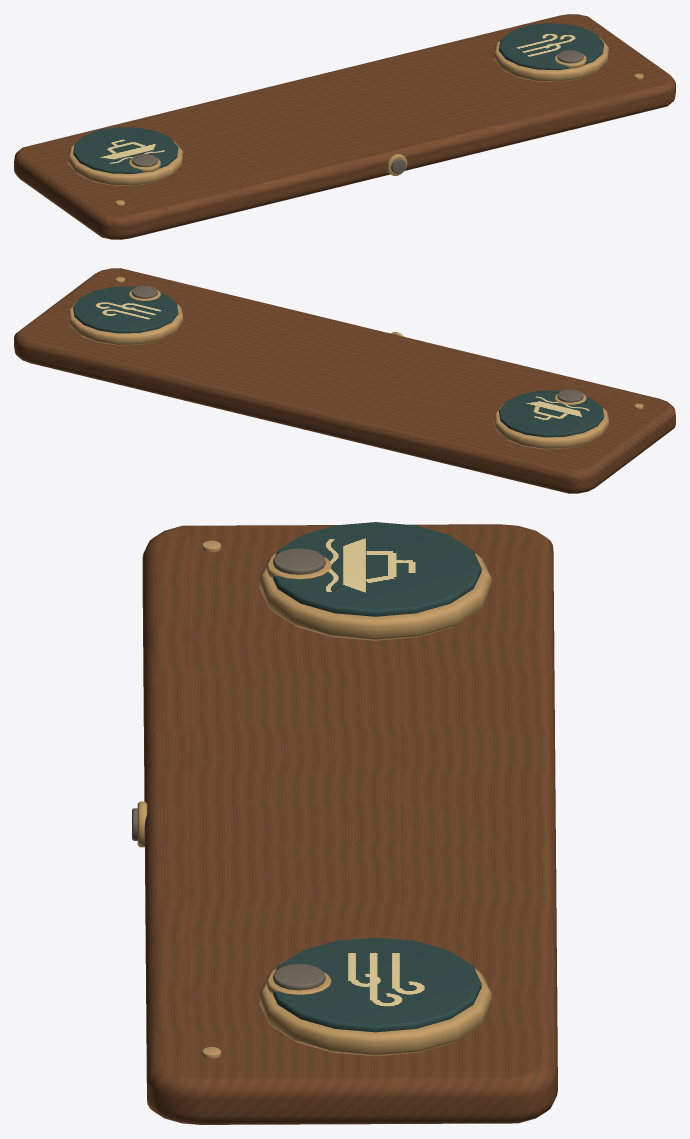
Rendered from wind_control_power.glb.
The picture shows the model from 3 angles, top to bottom: view 1: azimuth 30°, elevation 25°; view 2: azimuth 150°, elevation 25°; view 3: azimuth 270°, elevation 25°; orthographic projection. The views are drawn at different scales.
Parts seen in each view (by area): view 1: Oak, Brass, Ferry, Wind; view 2: Oak, Wind, Ferry, Brass; view 3: Oak, Wind, Ferry, Brass, LensWind, LensFerry.
Part boxes in pixels (left/top/right/bottom): Oak: left=14, top=14, right=675, bottom=239; Brass: left=68, top=37, right=643, bottom=205; Ferry: left=73, top=127, right=178, bottom=173; Wind: left=499, top=23, right=603, bottom=70; Oak: left=14, top=268, right=675, bottom=493; Wind: left=73, top=286, right=178, bottom=333; Ferry: left=499, top=390, right=603, bottom=437; Brass: left=68, top=277, right=643, bottom=449; Oak: left=142, top=524, right=557, bottom=1124; Wind: left=273, top=937, right=481, bottom=1032; Ferry: left=273, top=522, right=481, bottom=616; Brass: left=137, top=540, right=491, bottom=1058; LensWind: left=273, top=964, right=325, bottom=990; LensFerry: left=273, top=548, right=325, bottom=574.
Bounding box in the file's own units: 0.474 × 0.0317 × 0.1507.
Materials: 5 (3 with a texture image).
